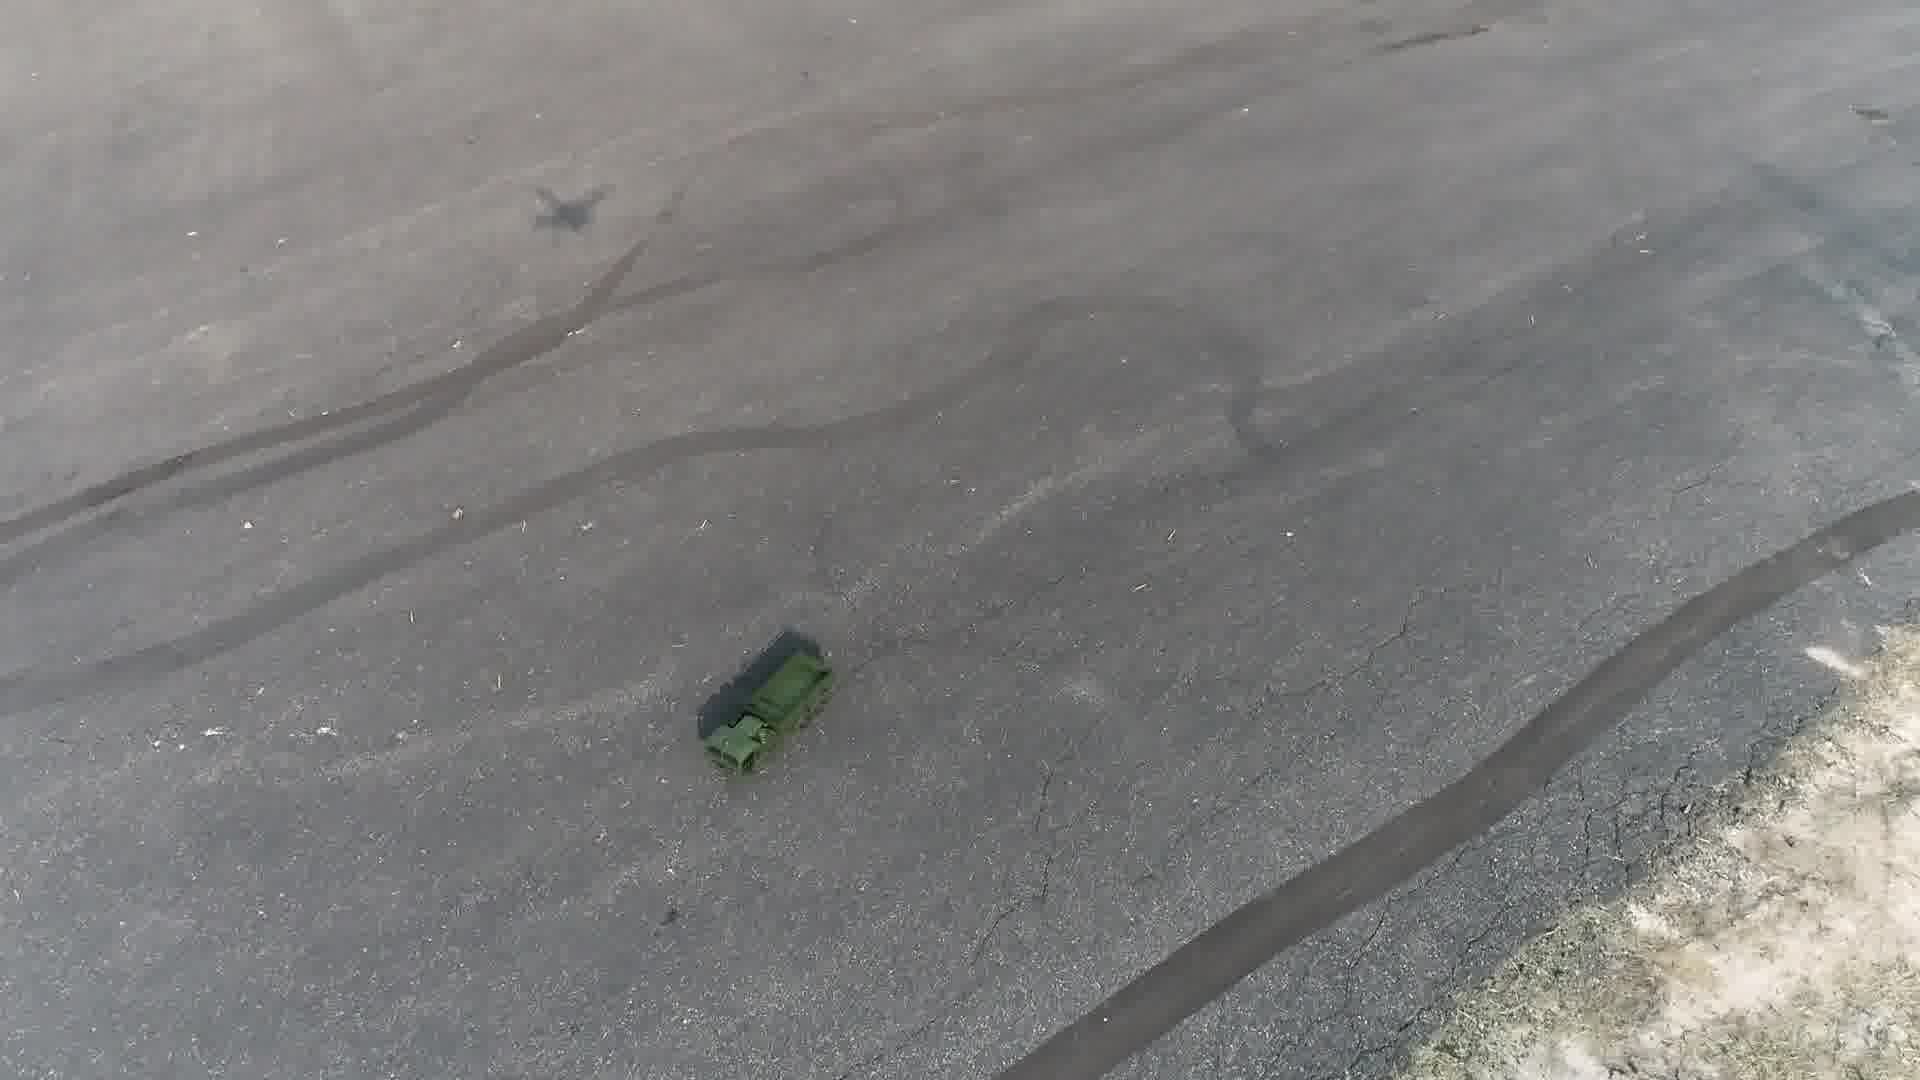transporter9: (699, 638, 832, 778)
